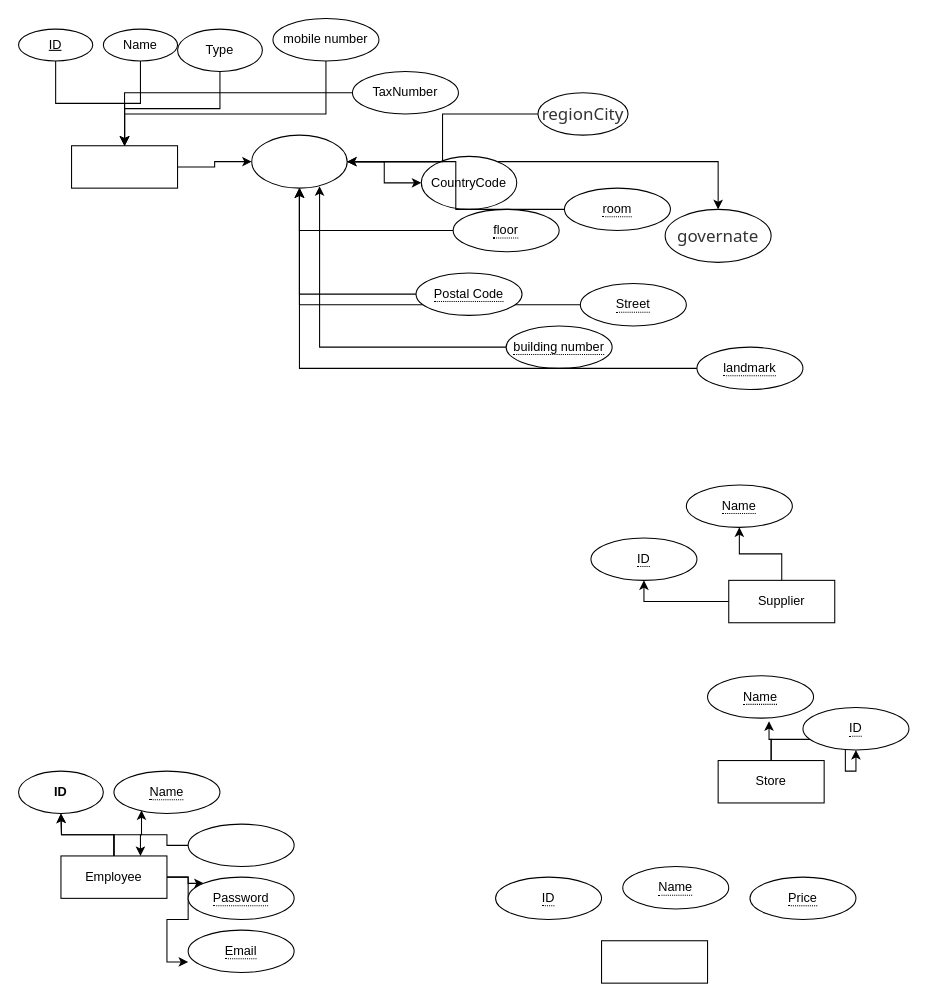
This 927x1002 diagram has some shape labels left out. The box of each missing label's shape, as (x1, y1, x2, y2) in pixels:
Address: (251, 134, 347, 188)
Customer: (70, 145, 178, 188)
Product: (600, 940, 708, 983)
userName: (187, 823, 294, 867)
